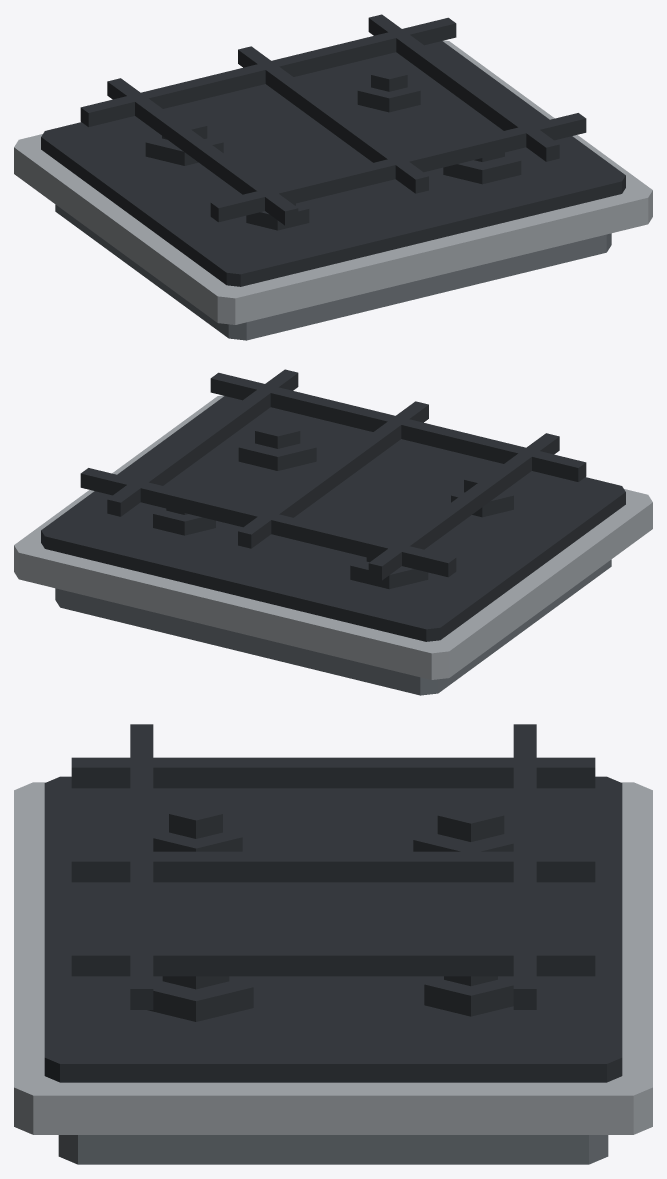
Rendered from SM_LPI_Appl_Hob_01.fbx.
The picture shows the model from 3 angles, top to bottom: view 1: azimuth 30°, elevation 25°; view 2: azimuth 150°, elevation 25°; view 3: azimuth 270°, elevation 25°; orthographic projection. The views are drawn at different scales.
Visible parts, largest first — view 1: SM_LPI_Appl_Hob_01; view 2: SM_LPI_Appl_Hob_01; view 3: SM_LPI_Appl_Hob_01.
Boxes of the visible parts, x1,y1,x2,y2 form: SM_LPI_Appl_Hob_01: (14, 14, 652, 340); SM_LPI_Appl_Hob_01: (14, 369, 652, 695); SM_LPI_Appl_Hob_01: (14, 724, 652, 1164).
Bounding box in the file's own units: 0.58 × 0.147 × 0.5.
